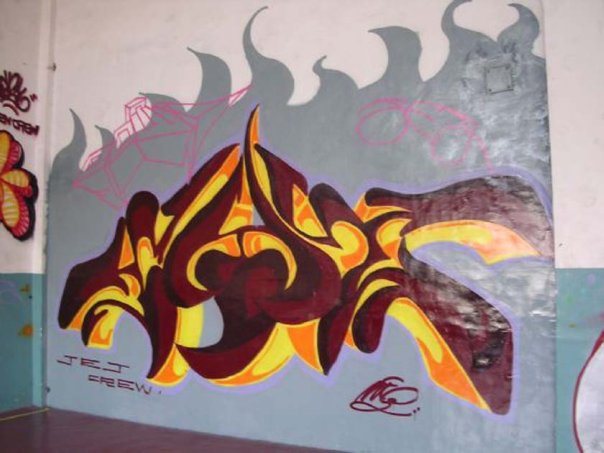graffity: (55, 99, 554, 431), (68, 84, 258, 219), (349, 84, 494, 179), (1, 67, 47, 244), (570, 306, 604, 453)
